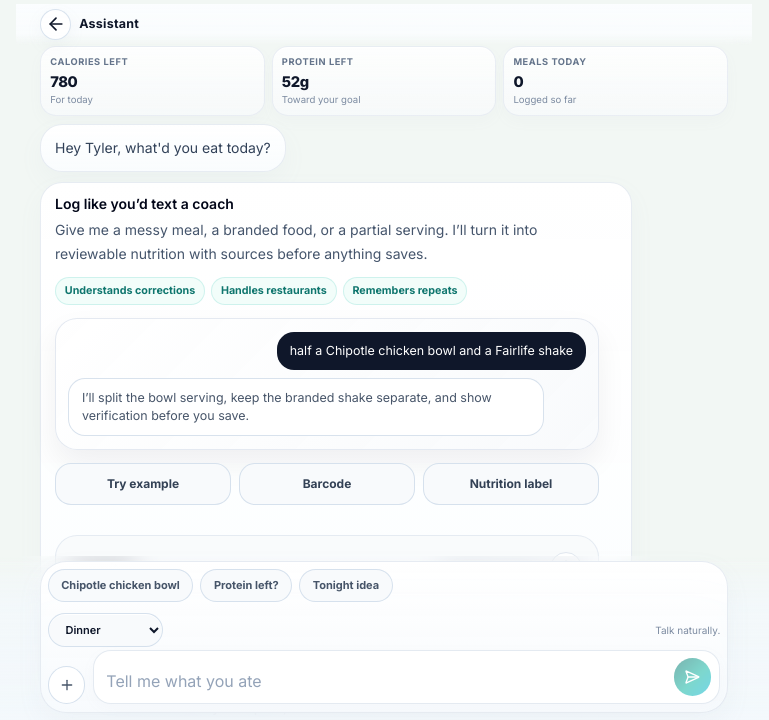
Test: meal logger client › can send a quick suggestion as a one-tap assistant prompt
Click the button "Protein left?" at point(246, 586), box [200, 569, 292, 602]
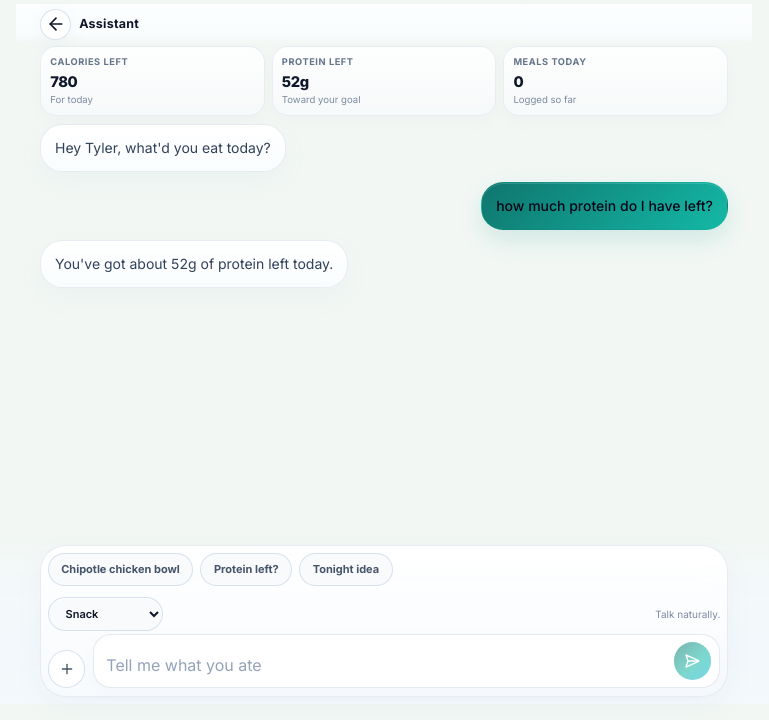
Expected: the text "how much protein do I have left?" is shown, [496, 194, 713, 218]
Expected: the text "You've got about 52g of protein left today." is shown, [55, 252, 333, 276]
